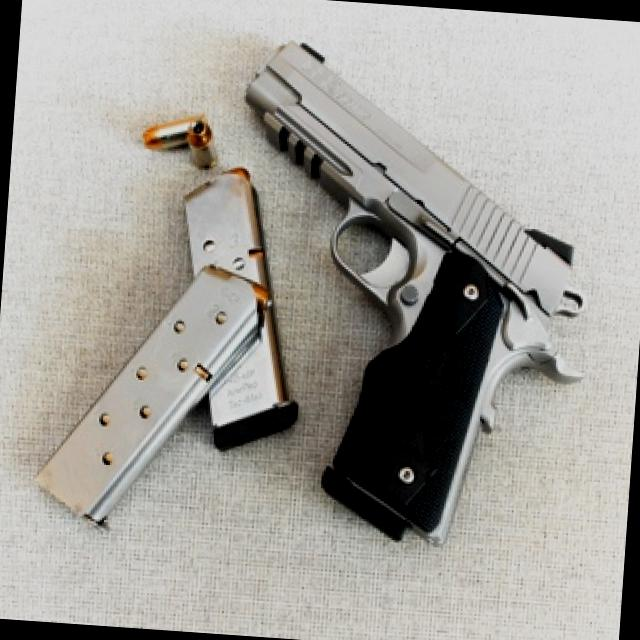handgun: (205, 37, 605, 554)
